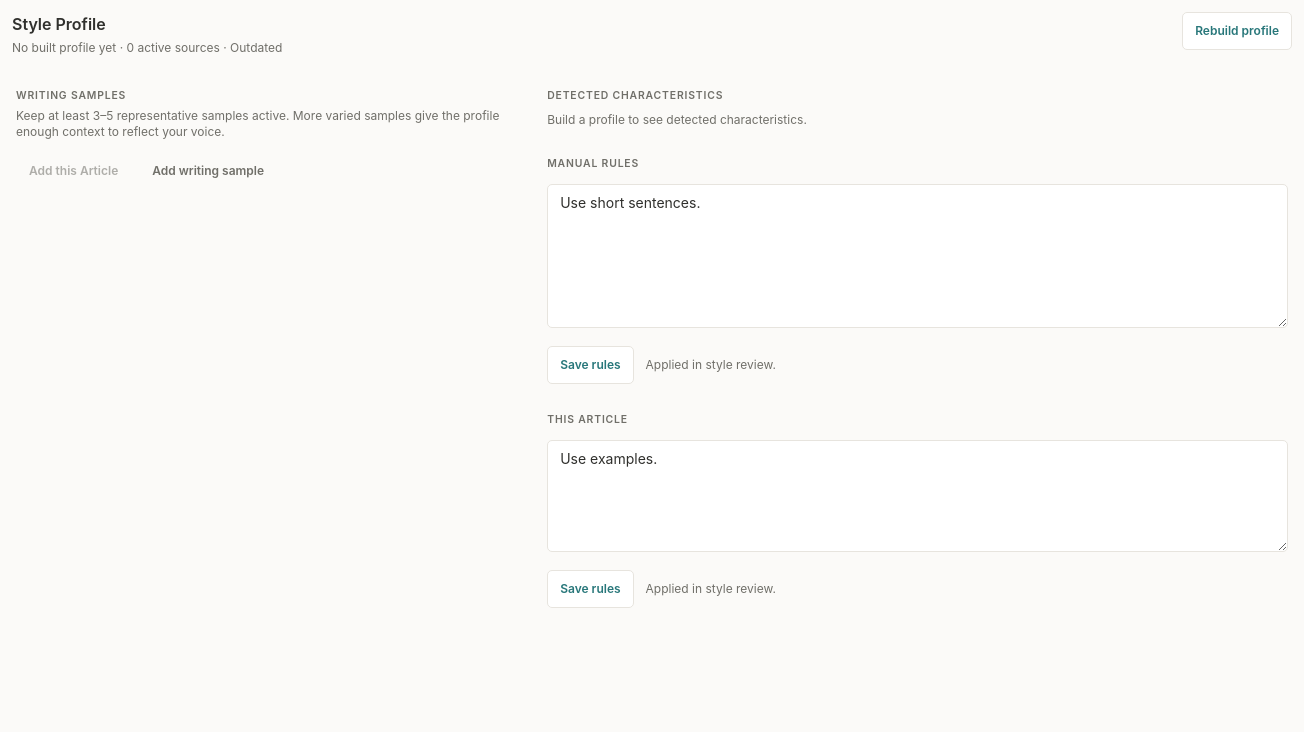
StyleProfileView › shows whether custom rules are applied or unsaved
The width and height of the screenshot is (1304, 732).
Expected: the 1st text "Applied in style review." is shown, [646, 357, 776, 373]
Replace the text in the text box named "Global style rules" with "Use plain language." at (918, 256), box [547, 184, 1288, 328]
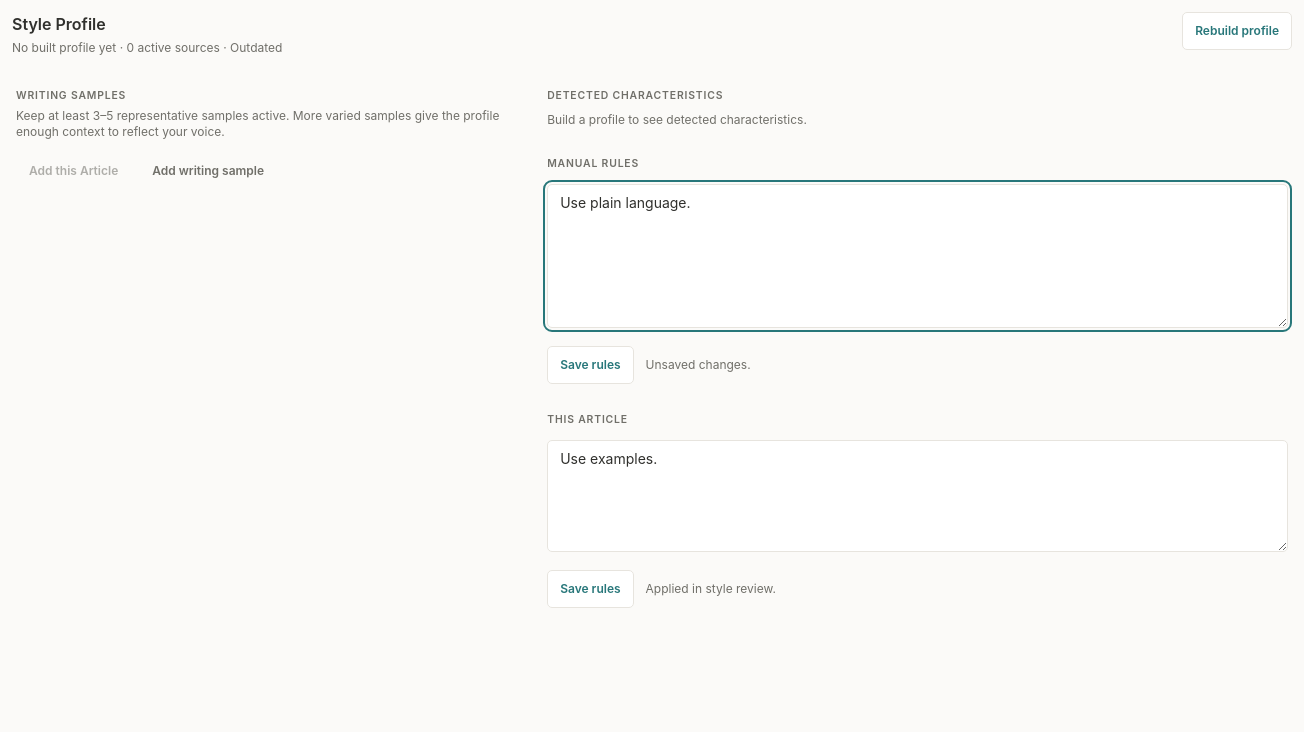
Now the text "Unsaved changes." is shown, box [646, 357, 751, 373]
Click the button "Save rules" next to "Unsaved changes." at (590, 365), box [547, 346, 634, 384]
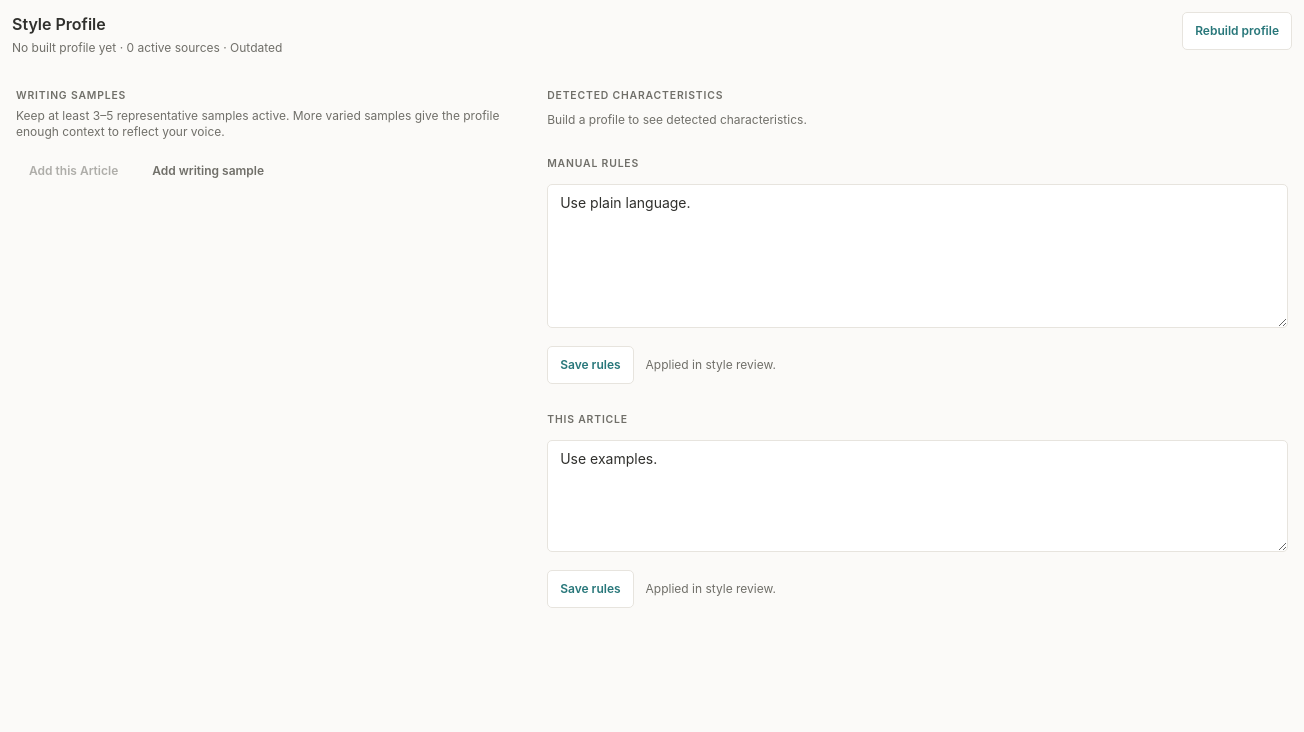
Now the 1st text "Applied in style review." is shown, box [646, 357, 776, 373]
